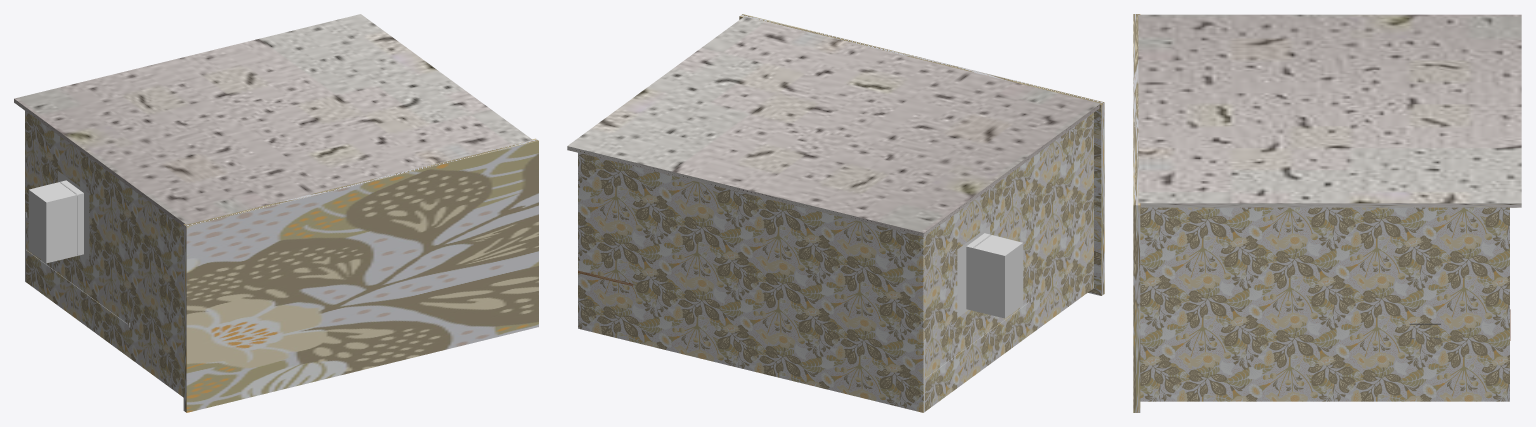
The model's file is BedRoom.fbx.
3 views of the same model, side by side, from view 1: azimuth 30°, elevation 25°; view 2: azimuth 150°, elevation 25°; view 3: azimuth 270°, elevation 25° (orthographic). The views are drawn at different scales.
Parts seen in each view (by area): view 1: Cube.055, Cube.054, Cube.037, Cube.033; view 2: Cube.037, Cube.054, Cube.033, Cube.055; view 3: Cube.054, Cube.037, Cube.055.
Part boxes in pixels (left/top/right/bottom): Cube.055: left=183, top=138, right=538, bottom=412; Cube.054: left=14, top=14, right=532, bottom=226; Cube.037: left=25, top=111, right=183, bottom=397; Cube.033: left=28, top=171, right=89, bottom=263; Cube.037: left=578, top=113, right=1093, bottom=412; Cube.054: left=567, top=16, right=1100, bottom=236; Cube.033: left=957, top=226, right=1023, bottom=318; Cube.055: left=739, top=14, right=1104, bottom=295; Cube.054: left=1138, top=14, right=1521, bottom=207; Cube.037: left=1140, top=207, right=1509, bottom=401; Cube.055: left=1133, top=14, right=1140, bottom=412.
Size of the model in its own units: 503 by 234 by 397.
